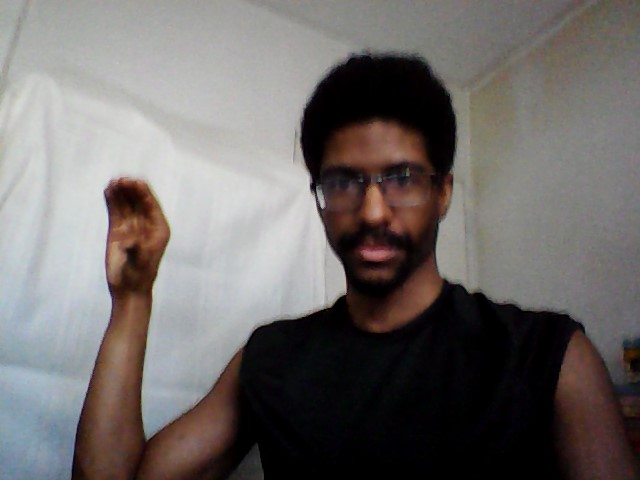c: (97, 173, 174, 297)
